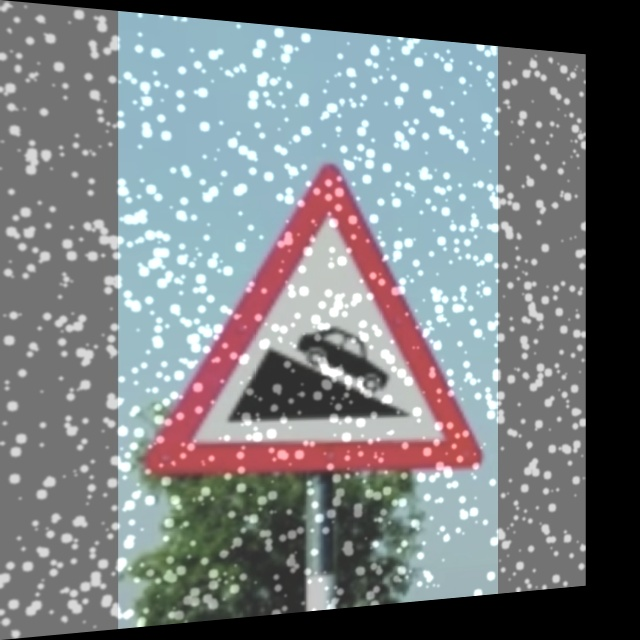Steep_Descent: (156, 161, 471, 487)
